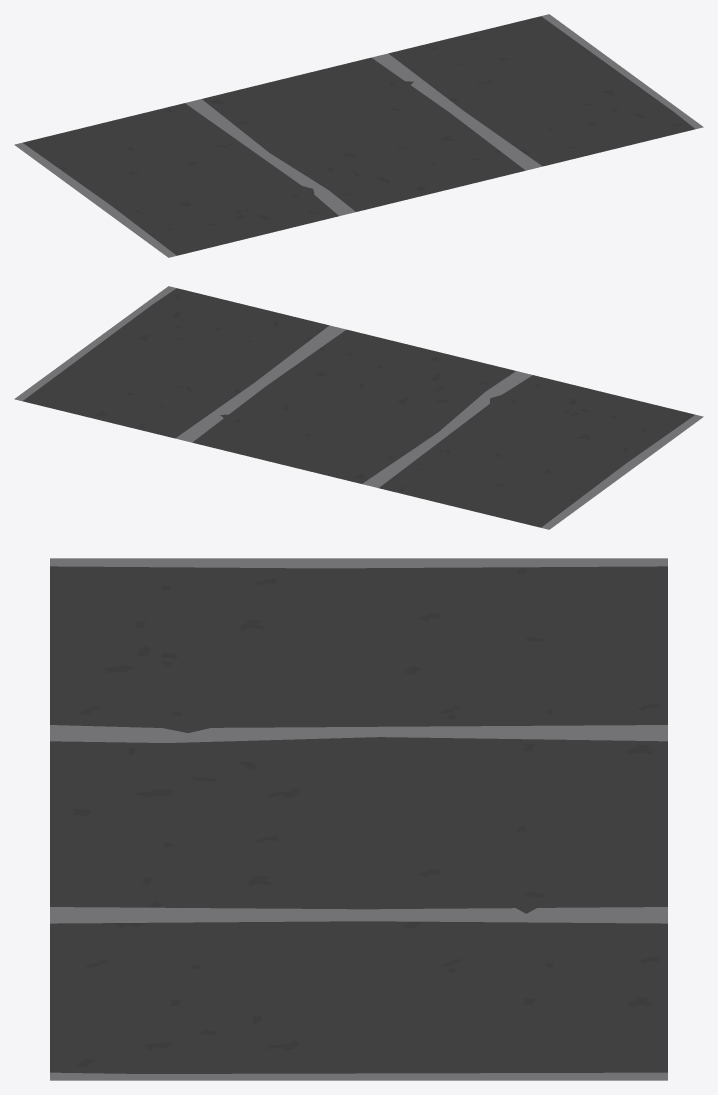
File: SM_Env_Road_ParkingLines_01.glb
3 renders of one model, top to bottom at view 1: azimuth 30°, elevation 25°; view 2: azimuth 150°, elevation 25°; view 3: azimuth 270°, elevation 25°, orthographic. The views are drawn at different scales.
Visible parts, largest first — view 1: SM_Env_Road_ParkingLines_01; view 2: SM_Env_Road_ParkingLines_01; view 3: SM_Env_Road_ParkingLines_01.
Boxes of the visible parts, x1,y1,x2,y2 form: SM_Env_Road_ParkingLines_01: (14, 14, 703, 257); SM_Env_Road_ParkingLines_01: (14, 286, 703, 529); SM_Env_Road_ParkingLines_01: (50, 558, 667, 1080).
Size of the model in its own units: 10 by 0 by 5.
1 material, 1 textured.
